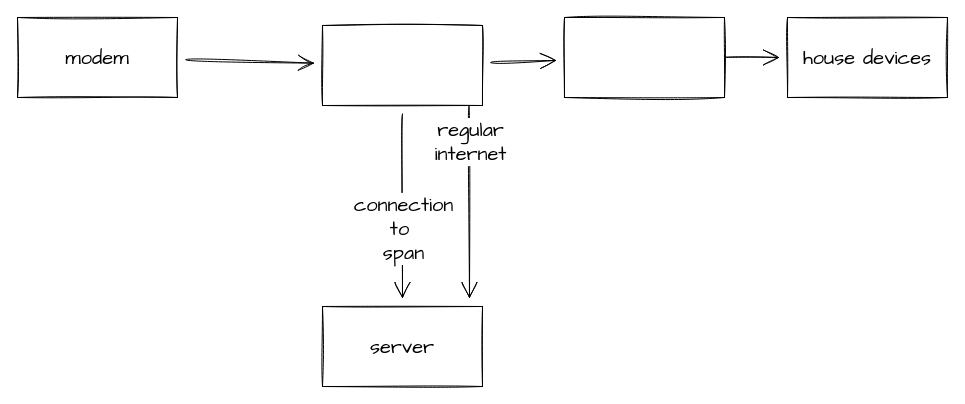
The diagram is 965 pixels wide and 404 high, and some of its shapes have lost their labels. The shapes that lost their labels are listed below. From the top down, each one's box as (x1, y1, x2, y2) in pixels, then its label:
(322, 24, 482, 106): switch
(564, 16, 724, 98): Router
